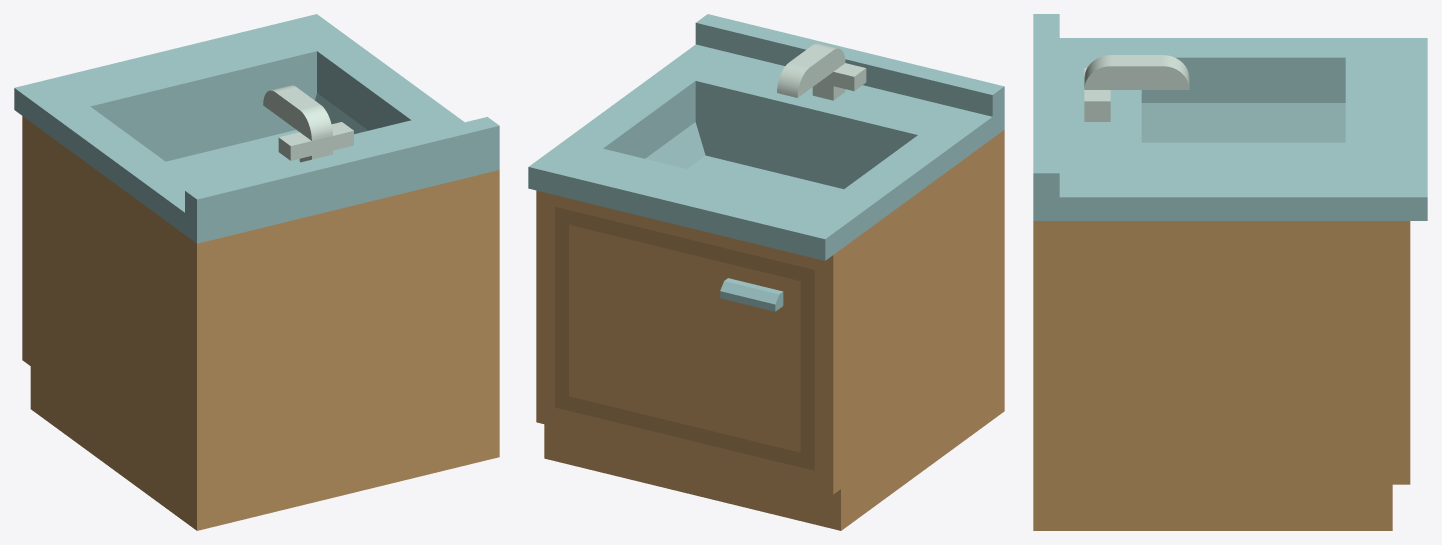
File: kitchenSink.glb
The picture shows the model from 3 angles, left to right: view 1: azimuth 30°, elevation 25°; view 2: azimuth 150°, elevation 25°; view 3: azimuth 270°, elevation 25°; orthographic projection. The views are drawn at different scales.
Bounding box in the file's own units: 4.3 × 4.9 × 4.5.
